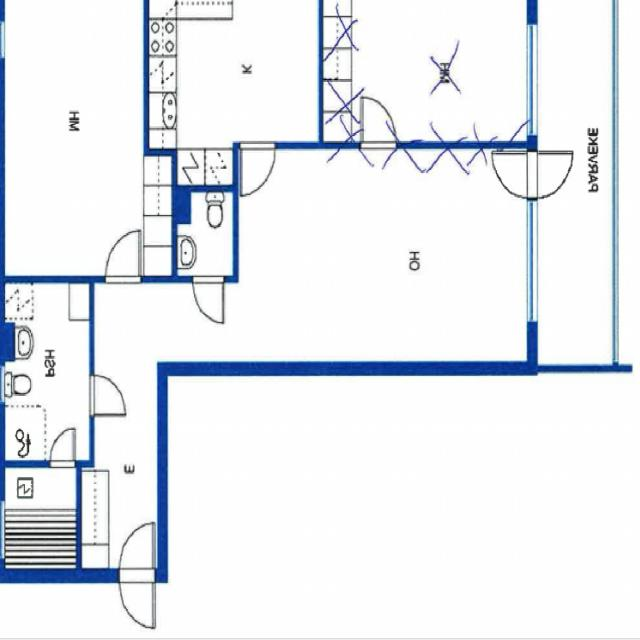door: (492, 150, 538, 198), (528, 150, 573, 198), (120, 569, 156, 629), (120, 522, 156, 582), (106, 230, 142, 281), (193, 276, 224, 322), (90, 374, 125, 414), (50, 429, 75, 466)
